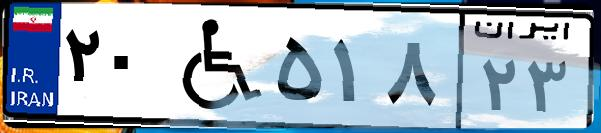0: (110, 28, 158, 98)
1: (330, 28, 385, 110)
2: (57, 26, 110, 100), (475, 38, 525, 113)
3: (525, 38, 570, 115)
5: (270, 28, 330, 110)
8: (385, 28, 445, 110)
ژ (معلولین و جانبازان): (158, 12, 270, 120)
